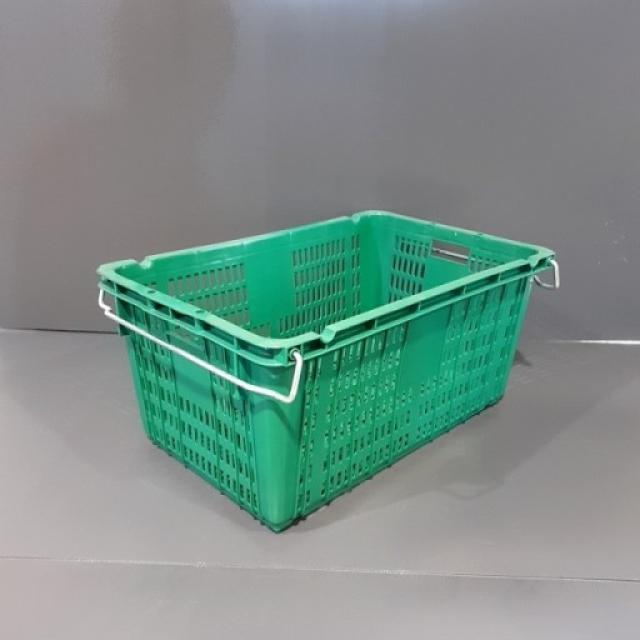basket: (91, 166, 600, 560)
